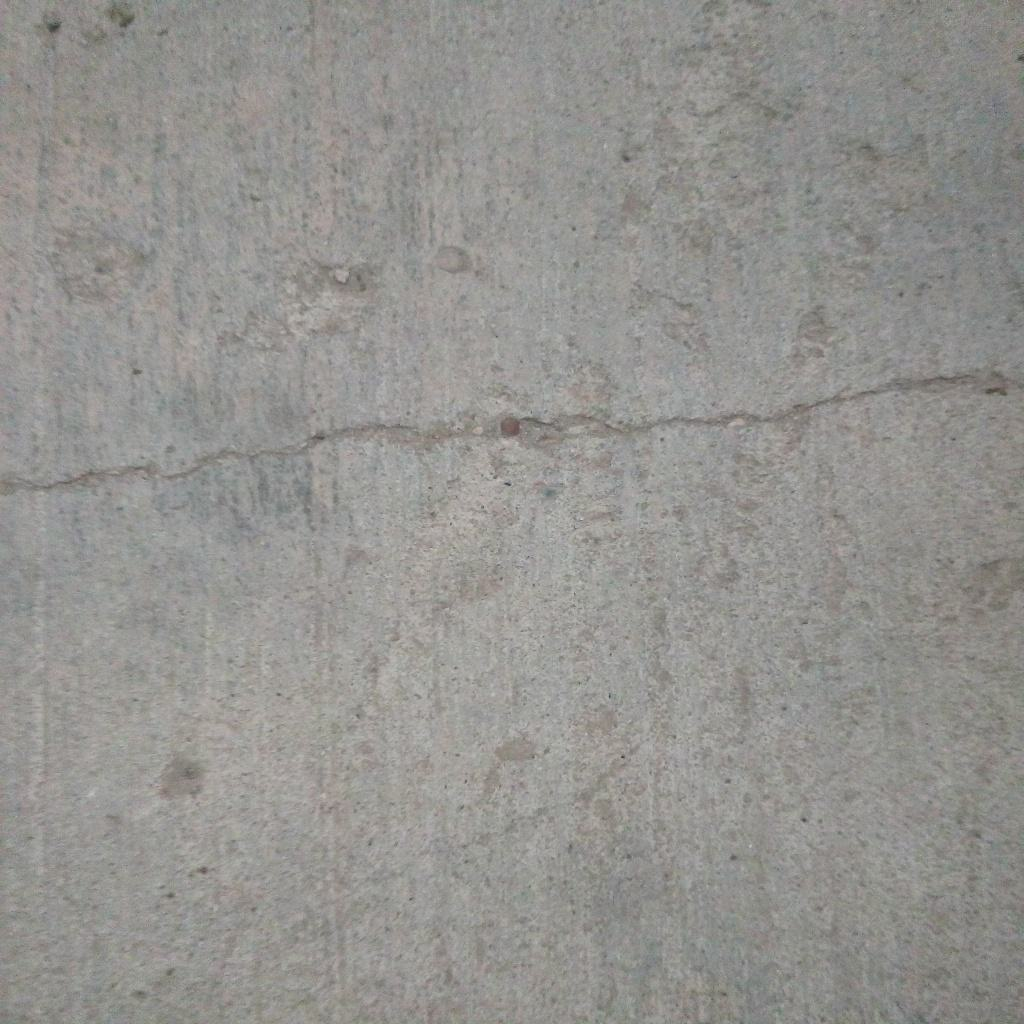Crack: (1, 363, 1024, 497)
